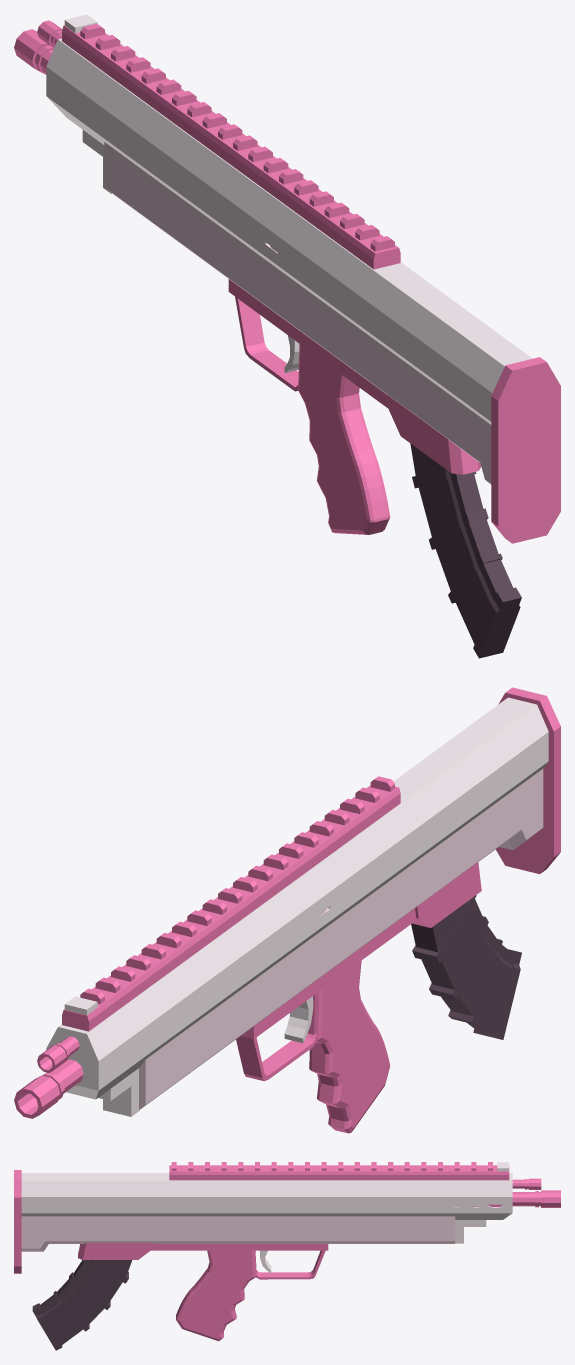
The model's file is Bullpup_3.obj.
The picture shows the model from 3 angles, top to bottom: view 1: azimuth 30°, elevation 25°; view 2: azimuth 150°, elevation 25°; view 3: azimuth 270°, elevation 25°; orthographic projection. The views are drawn at different scales.
Visible parts, largest first — view 1: Grip, Body, Panel, Hardware; view 2: Body, Grip, Panel, Hardware; view 3: Body, Grip, Panel, Hardware.
Part boxes in pixels (box(x1,y1,x2,y2)): Grip: box(14, 20, 560, 543); Body: box(46, 14, 532, 424); Panel: box(104, 142, 491, 484); Hardware: box(410, 443, 521, 658); Body: box(46, 697, 548, 1116); Grip: box(14, 687, 560, 1133); Panel: box(139, 769, 543, 1109); Hardware: box(411, 895, 521, 1039); Body: box(21, 1162, 512, 1273); Grip: box(14, 1162, 560, 1341); Panel: box(21, 1205, 502, 1251); Hardware: box(32, 1260, 132, 1350).
Bounding box in the file's own units: 0.3603 × 1.85 × 5.
